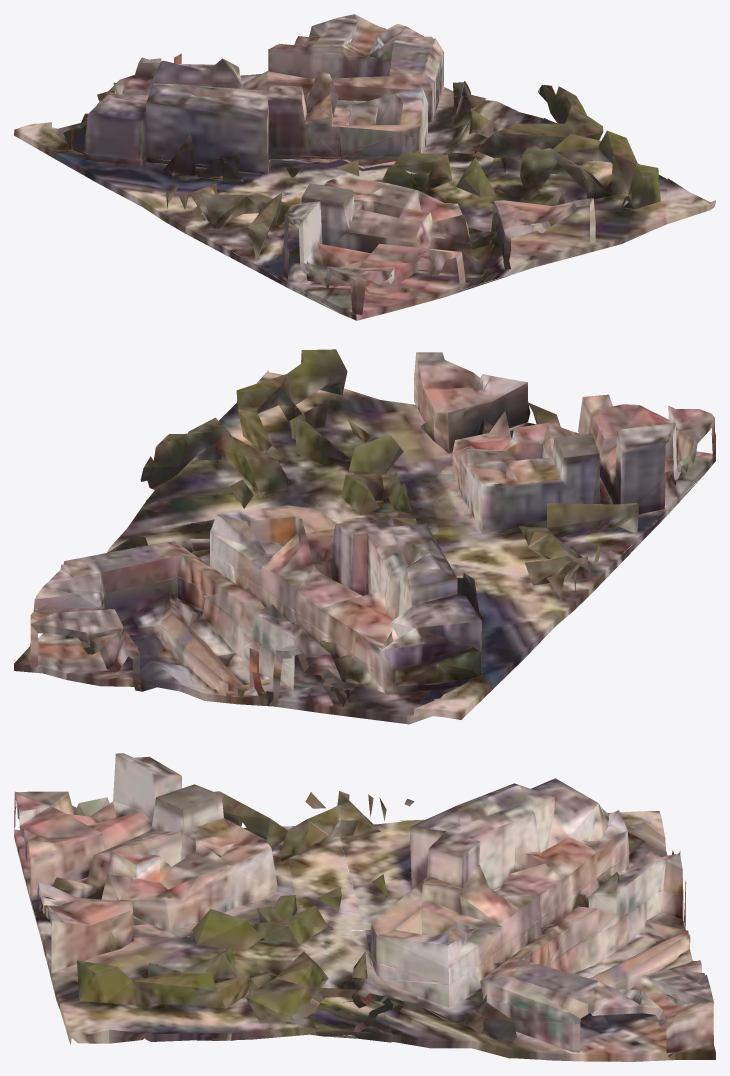
3 renders of one model, top to bottom at view 1: azimuth 30°, elevation 25°; view 2: azimuth 150°, elevation 25°; view 3: azimuth 270°, elevation 25°, orthographic. The views are drawn at different scales.
Parts seen in each view (by area): view 1: Mesh_0; view 2: Mesh_0; view 3: Mesh_0.
Part boxes in pixels (x1,y1,x2,y2): Mesh_0: [14, 14, 715, 320]; Mesh_0: [14, 349, 715, 724]; Mesh_0: [14, 753, 715, 1061].
Bounding box in the file's own units: 270 × 64.38 × 330.
1 material, 1 textured.
